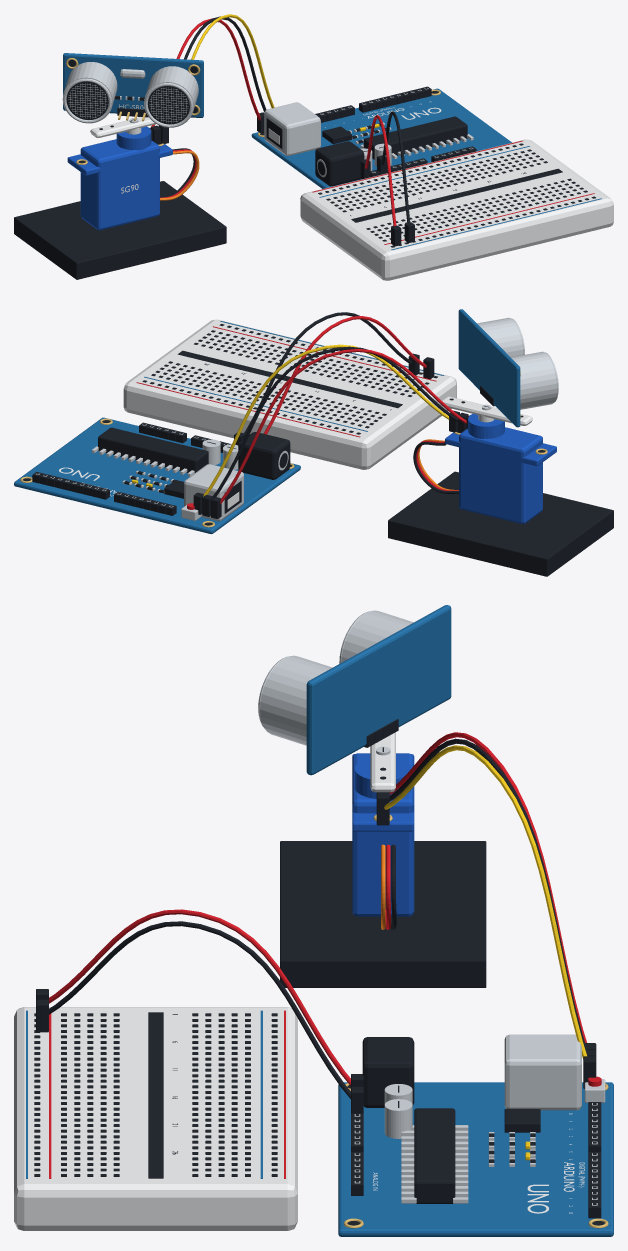
File: sweeping-radar.glb
3 renders of one model, top to bottom at view 1: azimuth 30°, elevation 25°; view 2: azimuth 150°, elevation 25°; view 3: azimuth 270°, elevation 25°, orthographic. The views are drawn at different scales.
Visible parts, largest first — view 1: breadboard.025 • white, Project structure • black, servo-actuator.004 • servoBlue, microcontroller.025 • black, microcontroller.025 • blue, ultrasonic-sensor.004 • silver, breadboard.025 • black, microcontroller.025 • silver, ultrasonic-sensor.004 • blue, ultrasonic-sensor.004 • black, Jumper connections • black, Jumper connections • red (+5 smaller); view 2: breadboard.025 • white, Project structure • black, microcontroller.025 • blue, servo-actuator.004 • servoBlue, microcontroller.025 • black, breadboard.025 • black, ultrasonic-sensor.004 • blue, microcontroller.025 • silver, Jumper connections • black, ultrasonic-sensor.004 • silver, Jumper connections • red, Jumper connections • yellow (+4 smaller); view 3: breadboard.025 • white, microcontroller.025 • blue, Project structure • black, ultrasonic-sensor.004 • blue, breadboard.025 • black, microcontroller.025 • black, microcontroller.025 • silver, servo-actuator.004 • servoBlue, Jumper connections • black, ultrasonic-sensor.004 • silver, Jumper connections • red, Jumper connections • yellow (+3 smaller).
Part boxes in pixels (bbox=[...]): breadboard.025 • white: bbox=[300, 139, 613, 280]; Project structure • black: bbox=[14, 181, 226, 279]; servo-actuator.004 • servoBlue: bbox=[67, 126, 172, 230]; microcontroller.025 • black: bbox=[260, 86, 476, 186]; microcontroller.025 • blue: bbox=[251, 88, 511, 188]; ultrasonic-sensor.004 • silver: bbox=[62, 62, 198, 127]; breadboard.025 • black: bbox=[318, 143, 595, 247]; microcontroller.025 • silver: bbox=[264, 88, 473, 177]; ultrasonic-sensor.004 • blue: bbox=[63, 53, 203, 117]; ultrasonic-sensor.004 • black: bbox=[66, 60, 197, 124]; Jumper connections • black: bbox=[149, 16, 414, 246]; Jumper connections • red: bbox=[150, 18, 396, 226]; breadboard.025 • white: bbox=[123, 319, 456, 469]; Project structure • black: bbox=[388, 471, 613, 576]; microcontroller.025 • blue: bbox=[14, 417, 300, 534]; servo-actuator.004 • servoBlue: bbox=[445, 414, 556, 523]; microcontroller.025 • black: bbox=[23, 420, 291, 525]; breadboard.025 • black: bbox=[142, 324, 437, 434]; ultrasonic-sensor.004 • blue: bbox=[458, 309, 520, 427]; microcontroller.025 • silver: bbox=[36, 424, 288, 521]; Jumper connections • black: bbox=[193, 312, 469, 518]; ultrasonic-sensor.004 • silver: bbox=[477, 317, 558, 409]; Jumper connections • red: bbox=[220, 316, 466, 504]; Jumper connections • yellow: bbox=[203, 344, 449, 496]; breadboard.025 • white: bbox=[14, 1007, 297, 1230]; microcontroller.025 • blue: bbox=[338, 1082, 613, 1236]; Project structure • black: bbox=[280, 841, 486, 987]; ultrasonic-sensor.004 • blue: bbox=[306, 605, 451, 775]; breadboard.025 • black: bbox=[34, 1012, 277, 1178]; microcontroller.025 • black: bbox=[347, 1037, 604, 1225]; microcontroller.025 • silver: bbox=[354, 1034, 605, 1205]; servo-actuator.004 • servoBlue: bbox=[352, 753, 414, 916]; Jumper connections • black: bbox=[36, 738, 596, 1113]; ultrasonic-sensor.004 • silver: bbox=[258, 610, 413, 745]; Jumper connections • red: bbox=[49, 732, 586, 1085]; Jumper connections • yellow: bbox=[384, 745, 586, 1059].
Bounding box in the file's own units: 170 × 63 × 116.
